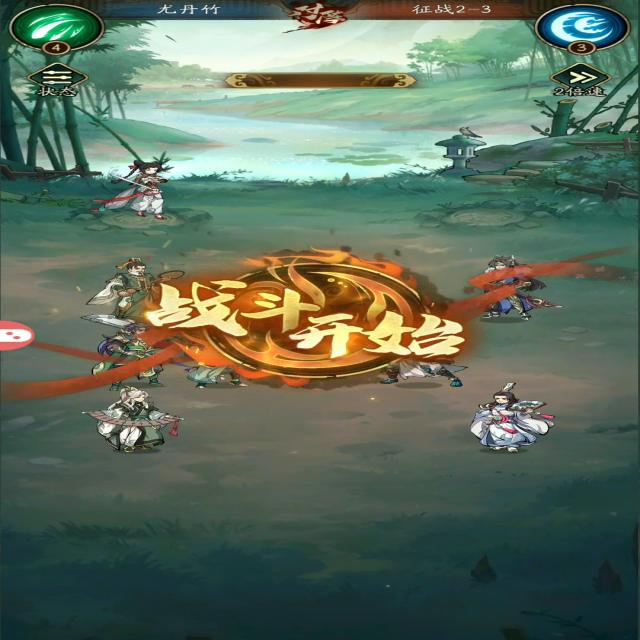operation-fightspeed: (524, 62, 618, 98)
operation-status: (15, 56, 110, 108)
